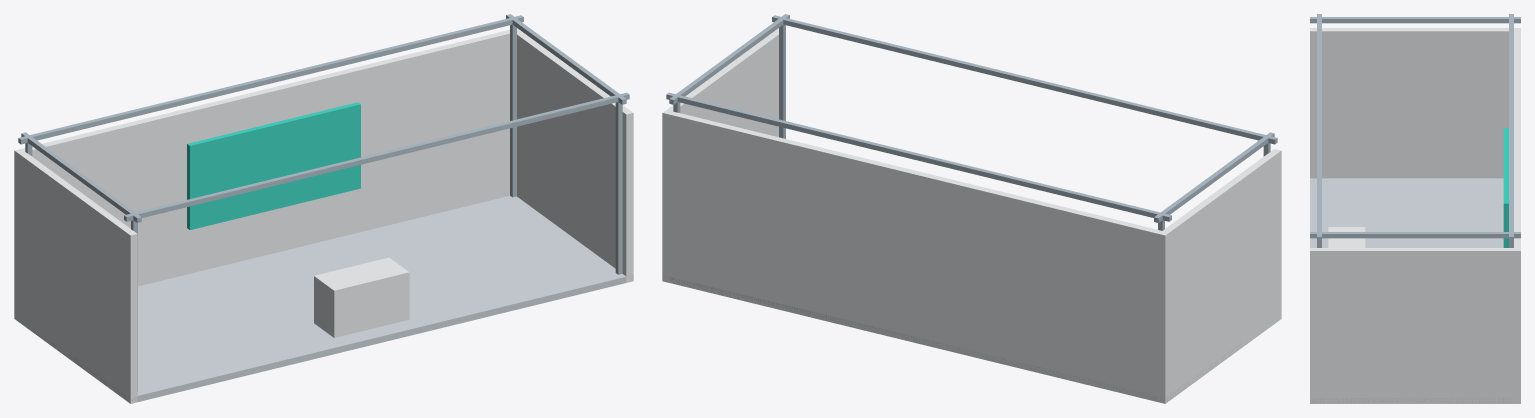
3 views of the same model, side by side, from view 1: azimuth 30°, elevation 25°; view 2: azimuth 150°, elevation 25°; view 3: azimuth 270°, elevation 25° (orthographic). The views are drawn at different scales.
Parts seen in each view (by area): view 1: Exhibition Booth Concept; view 2: Exhibition Booth Concept; view 3: Exhibition Booth Concept.
Part boxes in pixels (x1,y1,x2,y2): Exhibition Booth Concept: (14, 14, 633, 403); Exhibition Booth Concept: (662, 14, 1281, 403); Exhibition Booth Concept: (1310, 14, 1520, 403).
Size of the model in its own units: 10 by 3.49 by 4.
